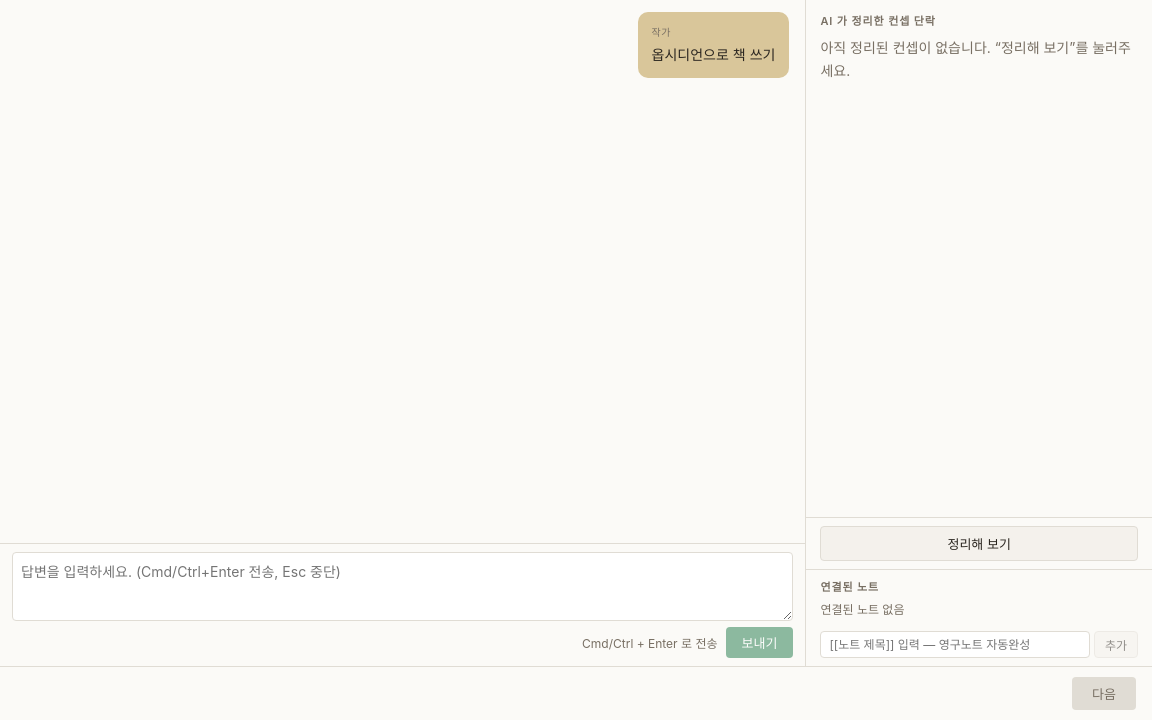
Test: 시나리오 5: 노트 chip 추가/제거 › 노트 input 에 [ [제목]] 입력 후 Enter → chip 추가
Step 1. Replace the text in the field with test id "concept-note-input" with "[ [내 노트]]" → (955,644), box x1=820 y1=631 x2=1090 y2=658
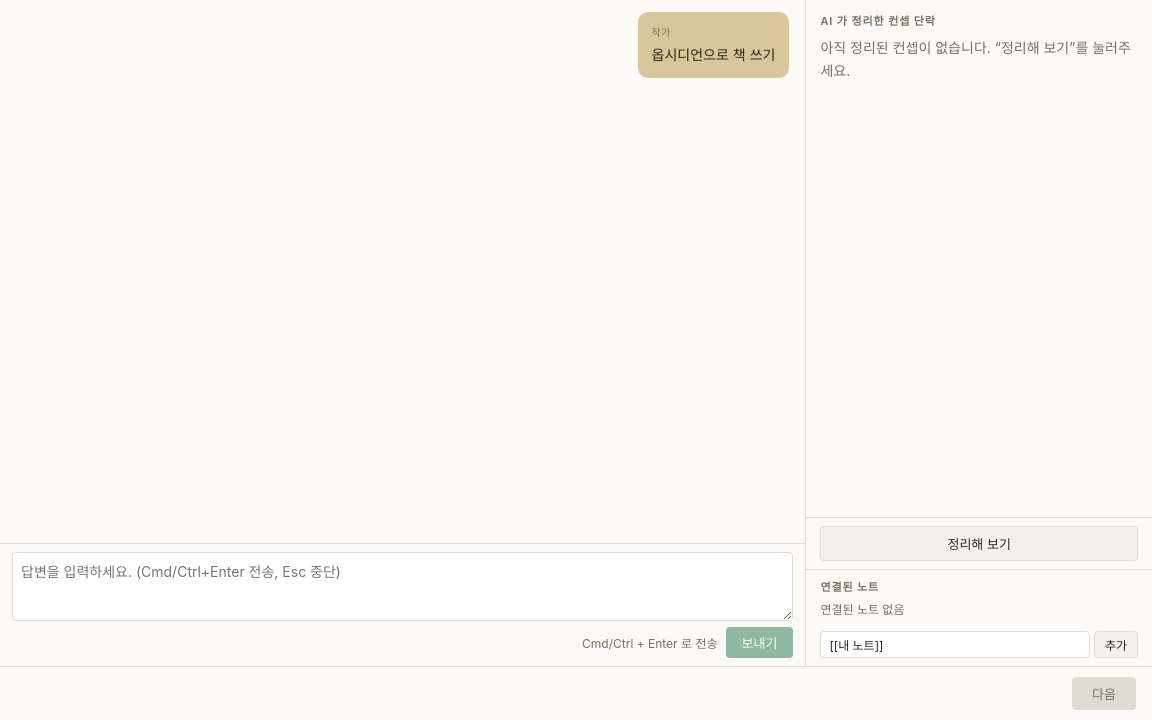
Step 2. Press Enter in the field with test id "concept-note-input", box x1=820 y1=631 x2=1090 y2=658
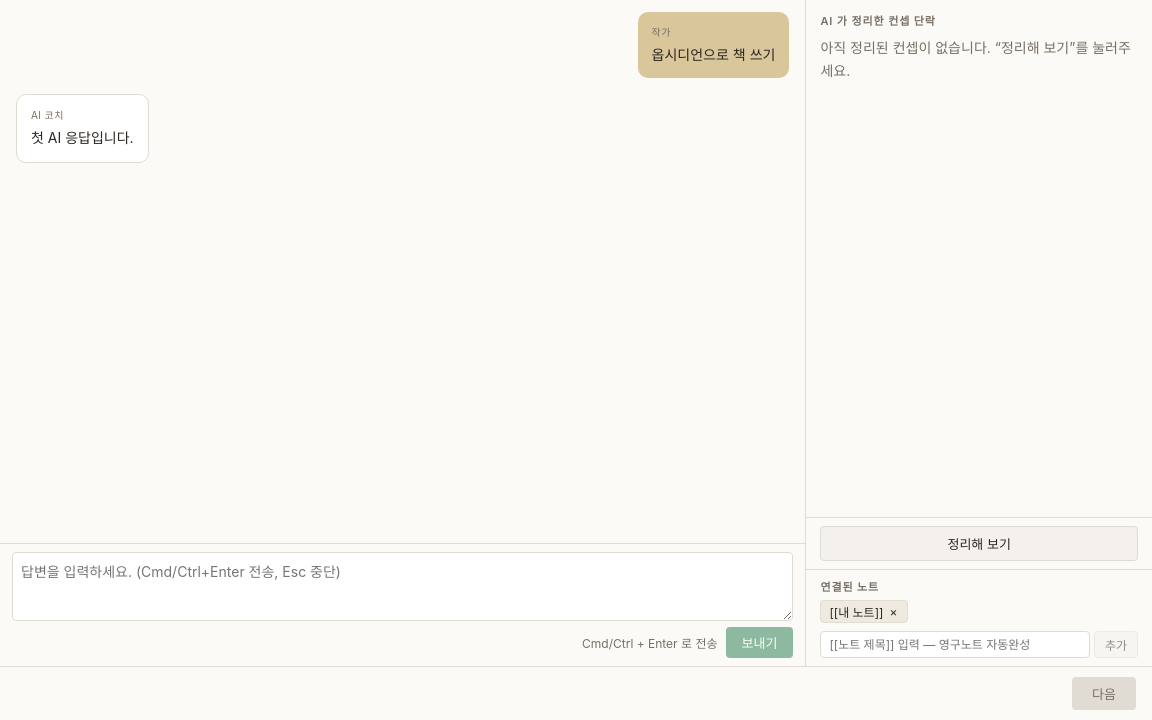
Result: the text "[ [내 노트]]" is shown at x1=829 y1=605 x2=883 y2=620
